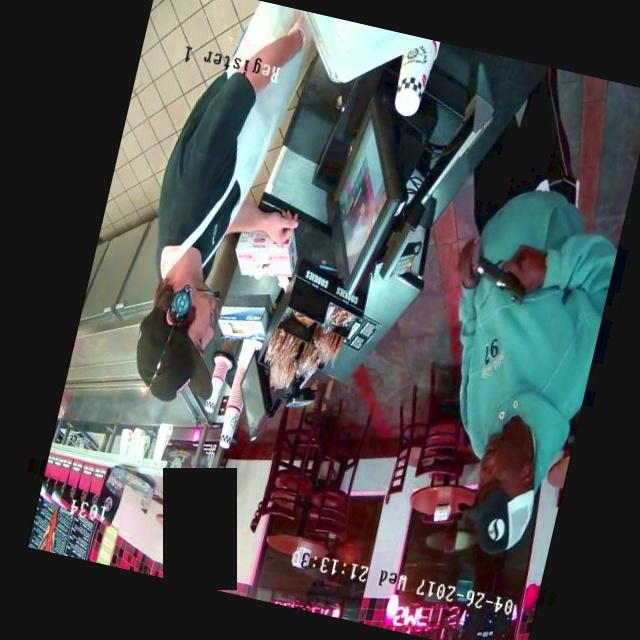gun: (453, 224, 559, 321)
